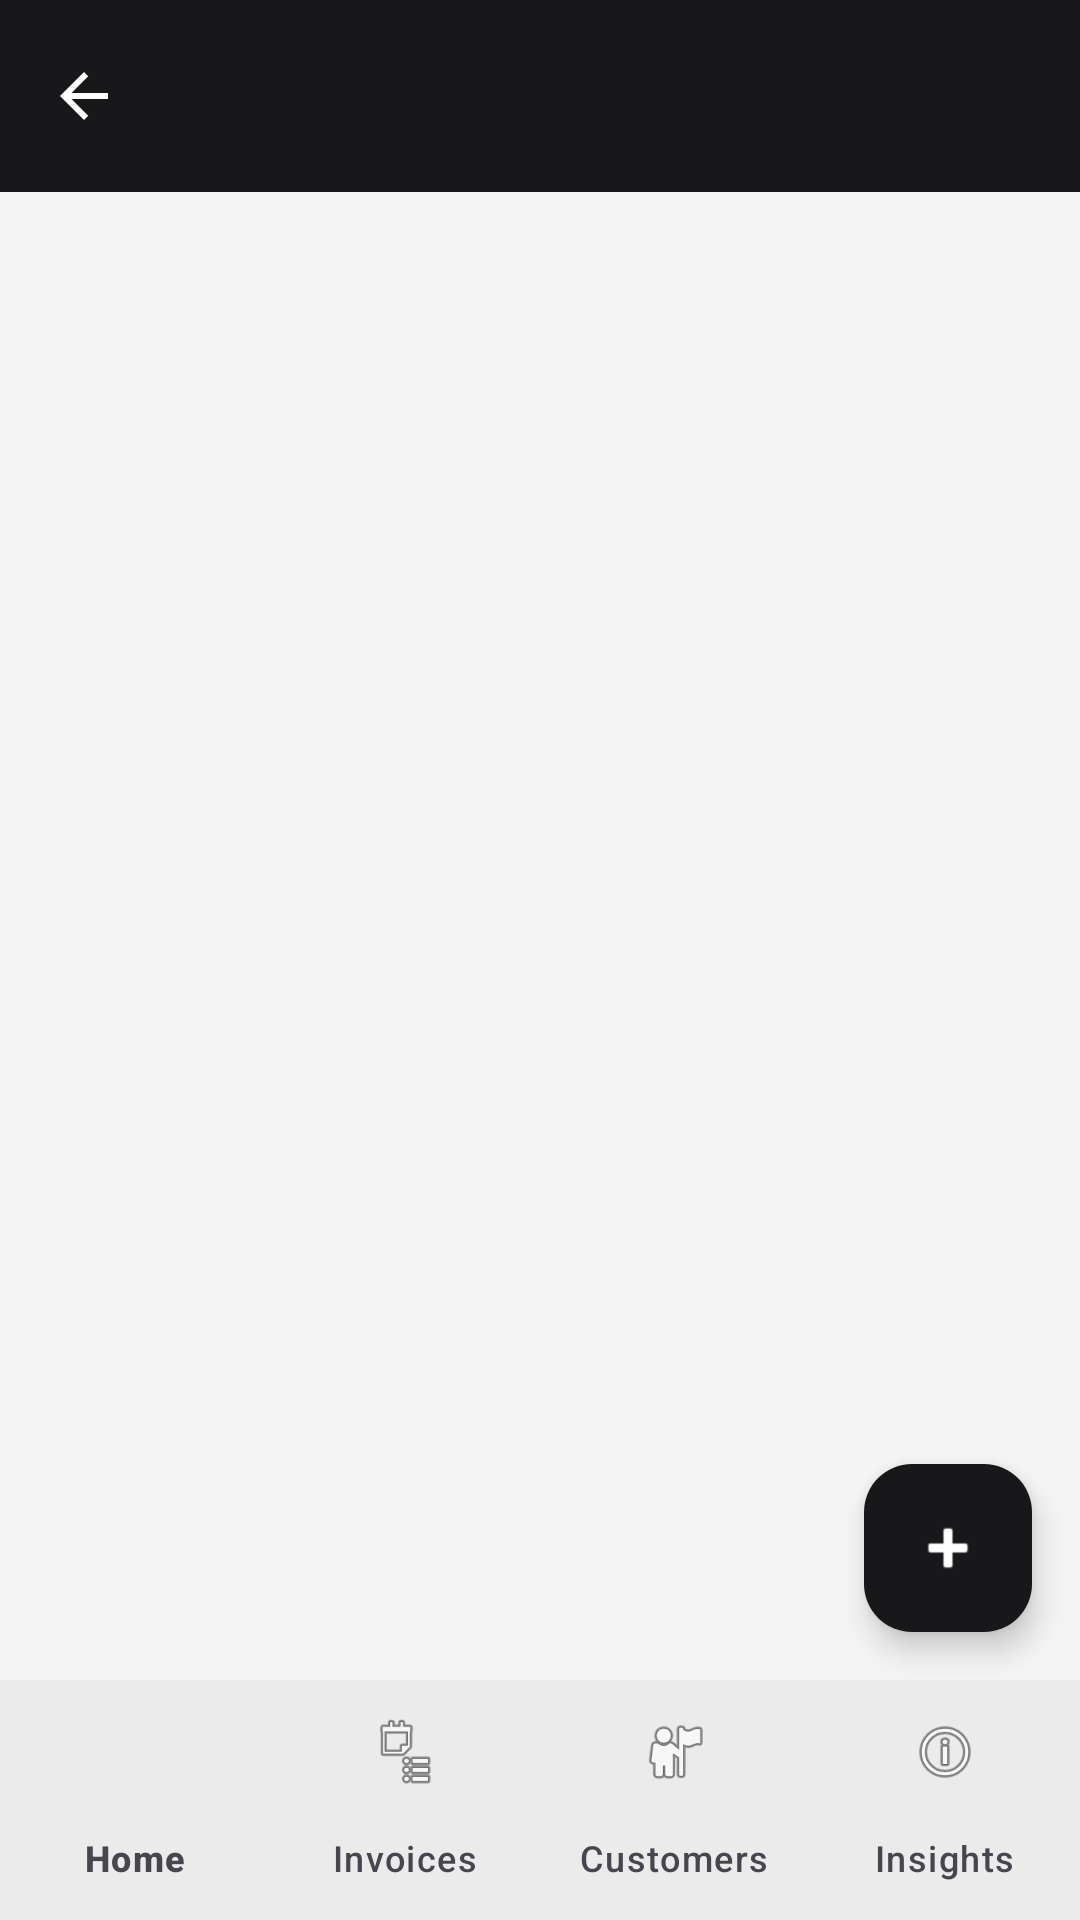

Screen size 1080px×1920px. Icon name, then its center in pixels as point (x, y):
Add customer: point (948, 1548)
